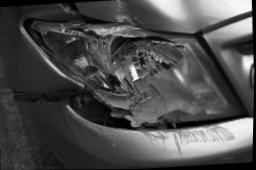Bumper: (19, 90, 247, 163)
Light: (24, 20, 247, 128)
